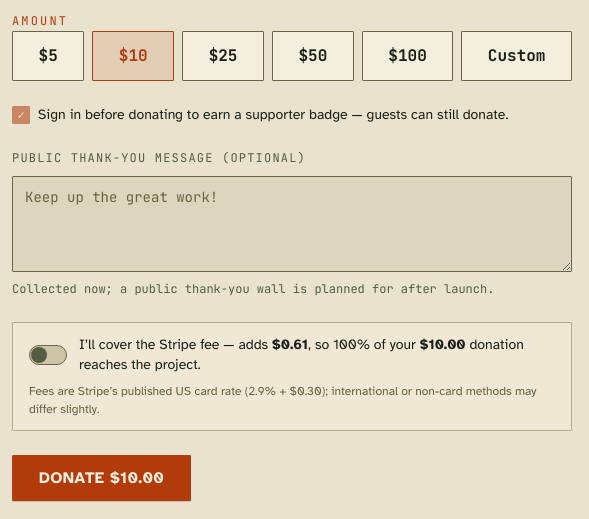
Scenario: DonationForm › reflects a preset selection in the CTA amount
Click the button "$25" at (223, 56), box x1=182 y1=31 x2=264 y2=81
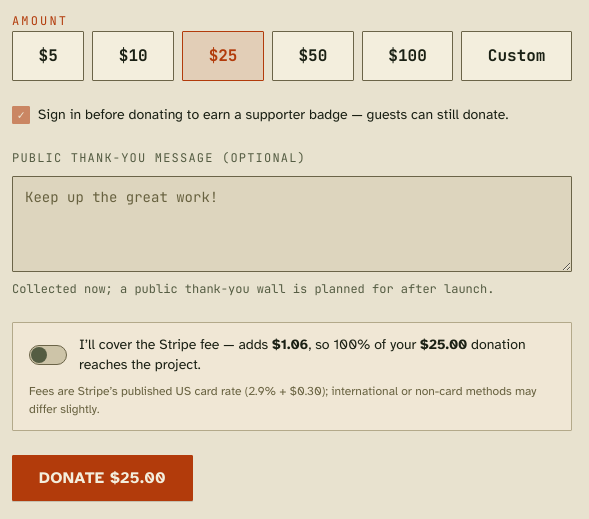
Result: the button "Donate $25.00" is shown at x1=12 y1=455 x2=193 y2=501
